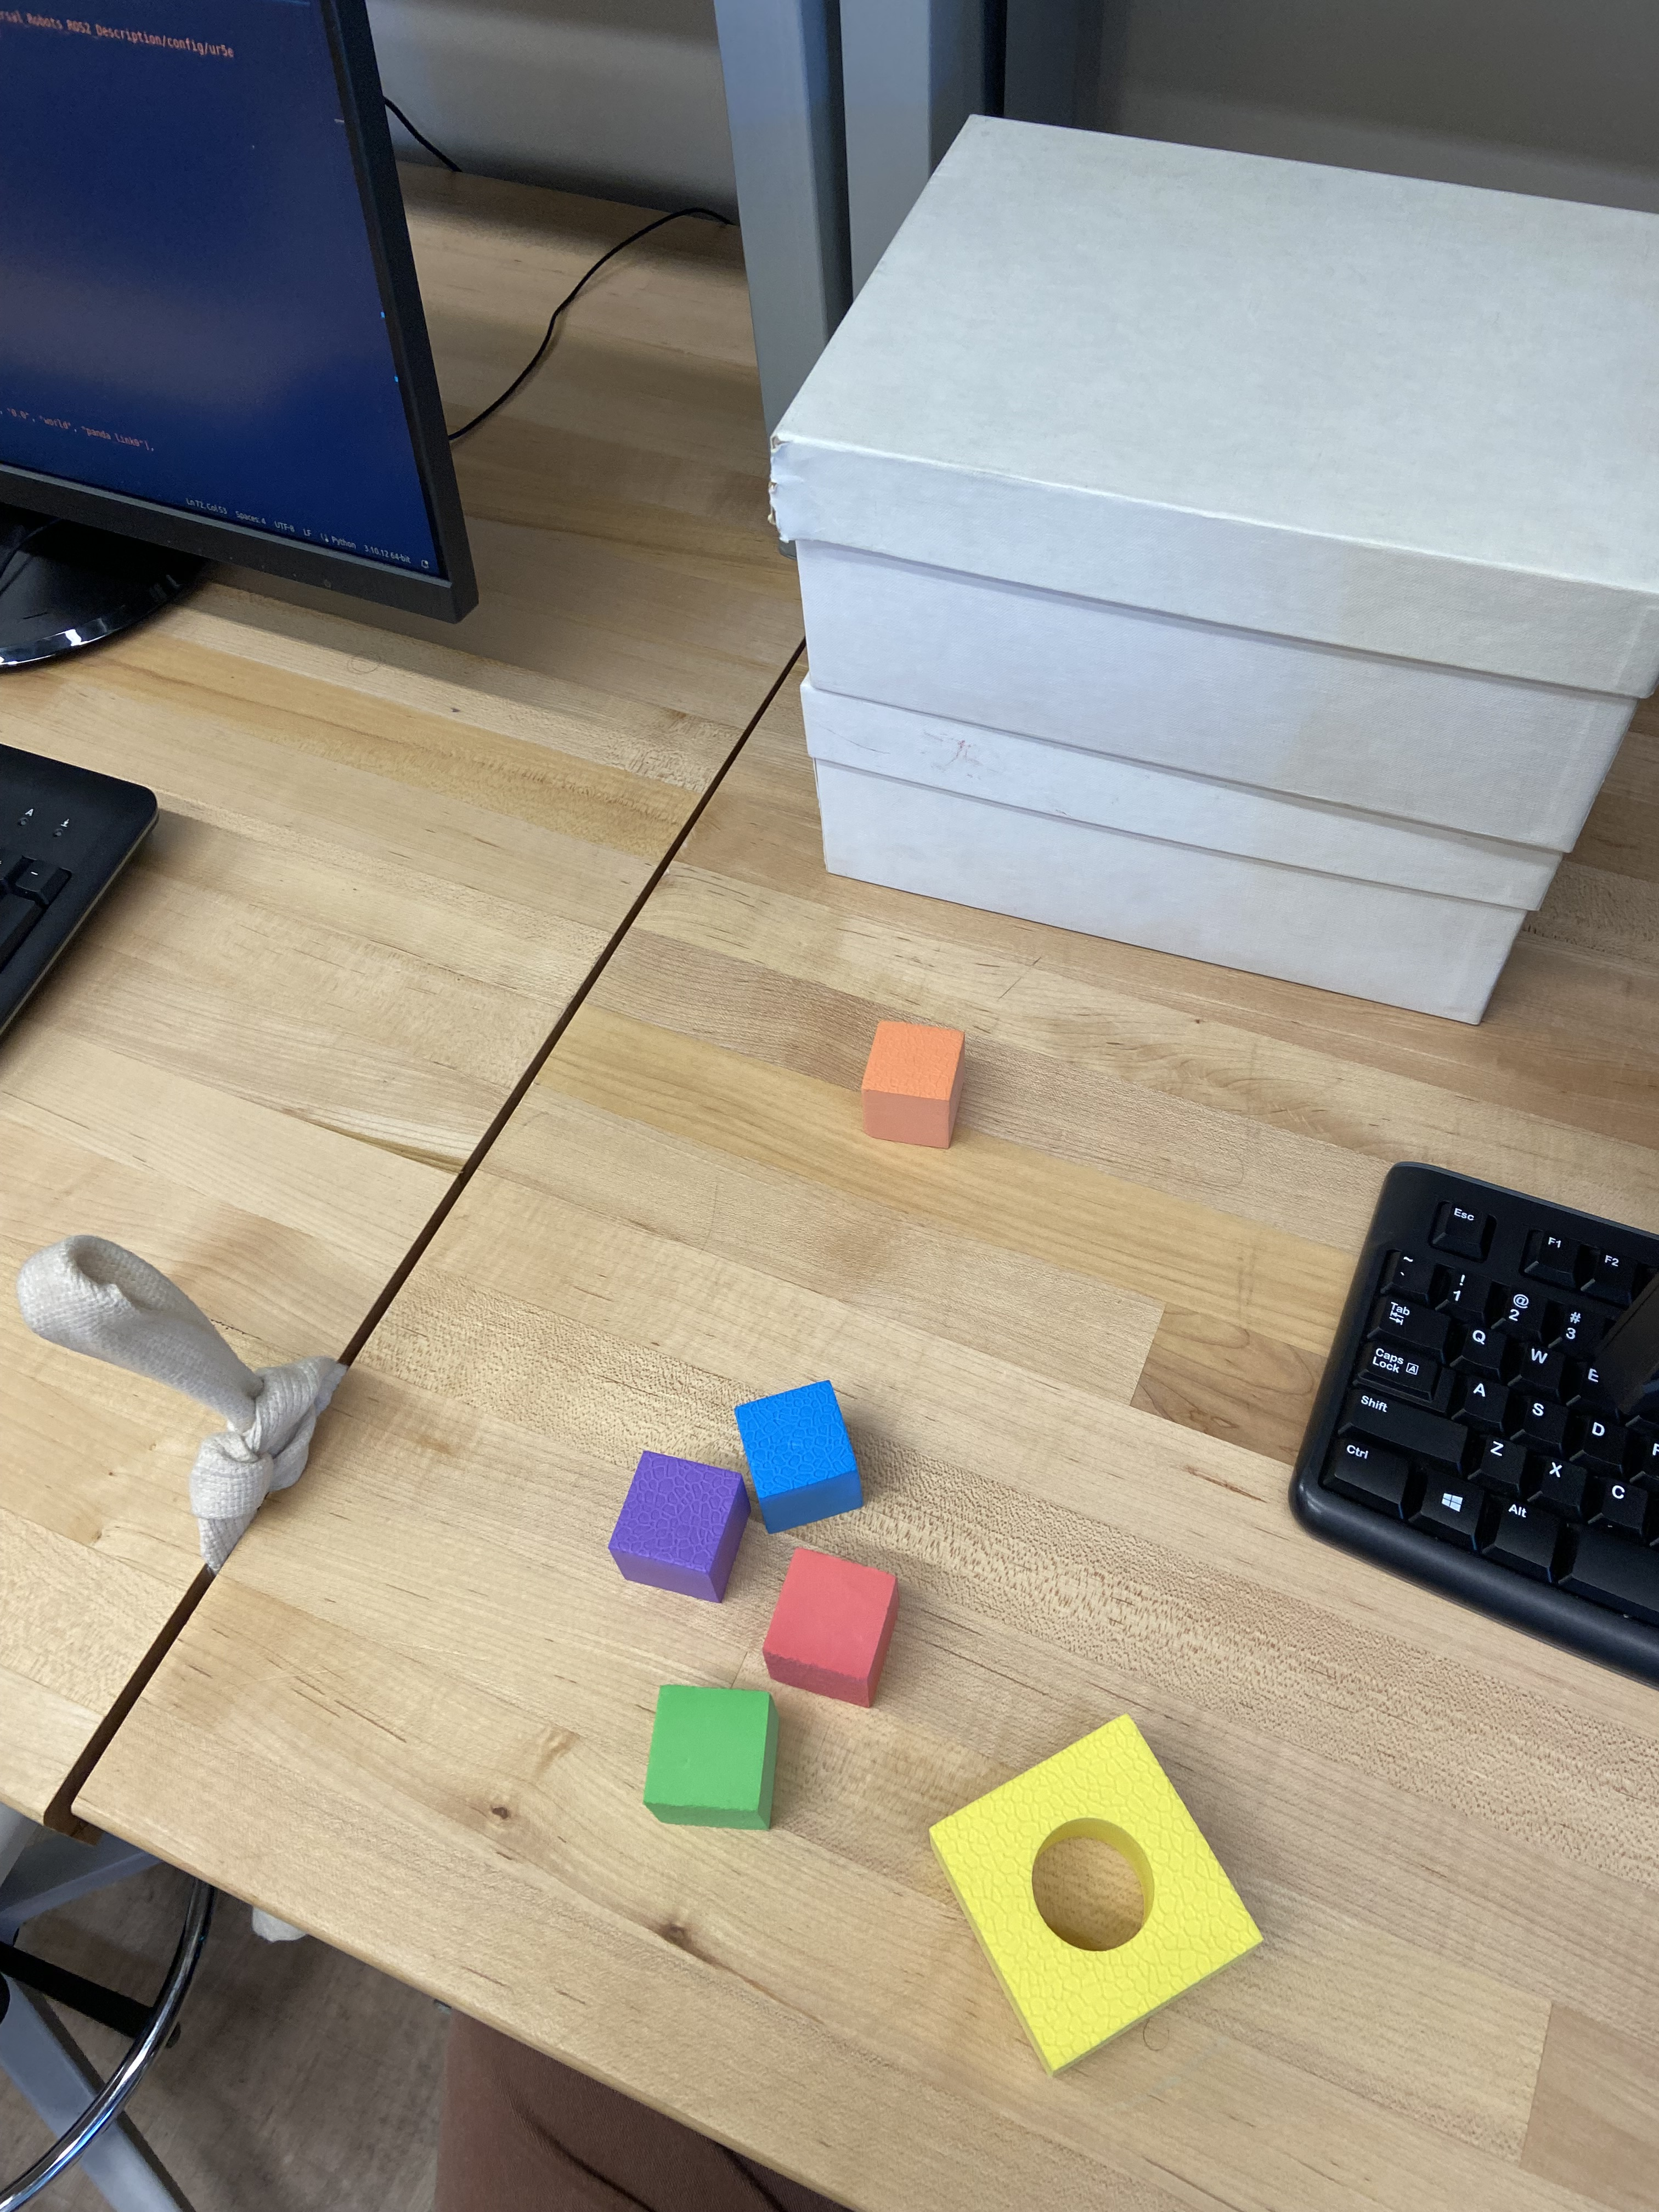Cube: (760, 1550, 908, 1702), (605, 1453, 751, 1604), (641, 1686, 770, 1824), (737, 1376, 856, 1517), (863, 1021, 958, 1143)
